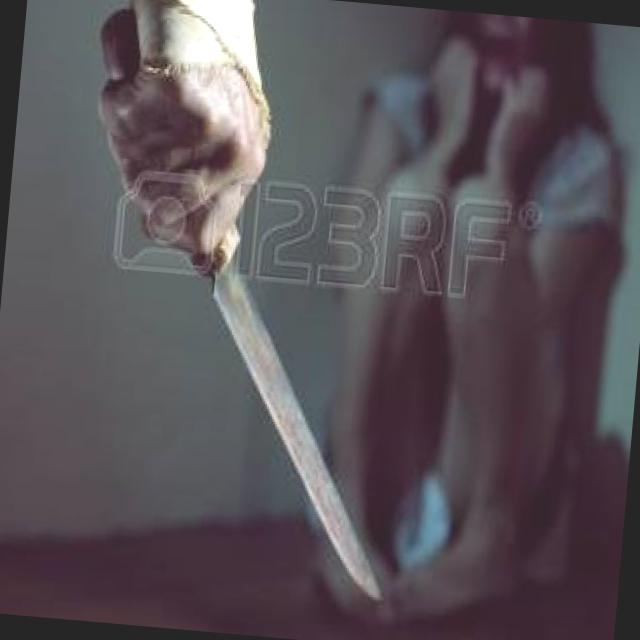knife: (88, 100, 428, 610)
